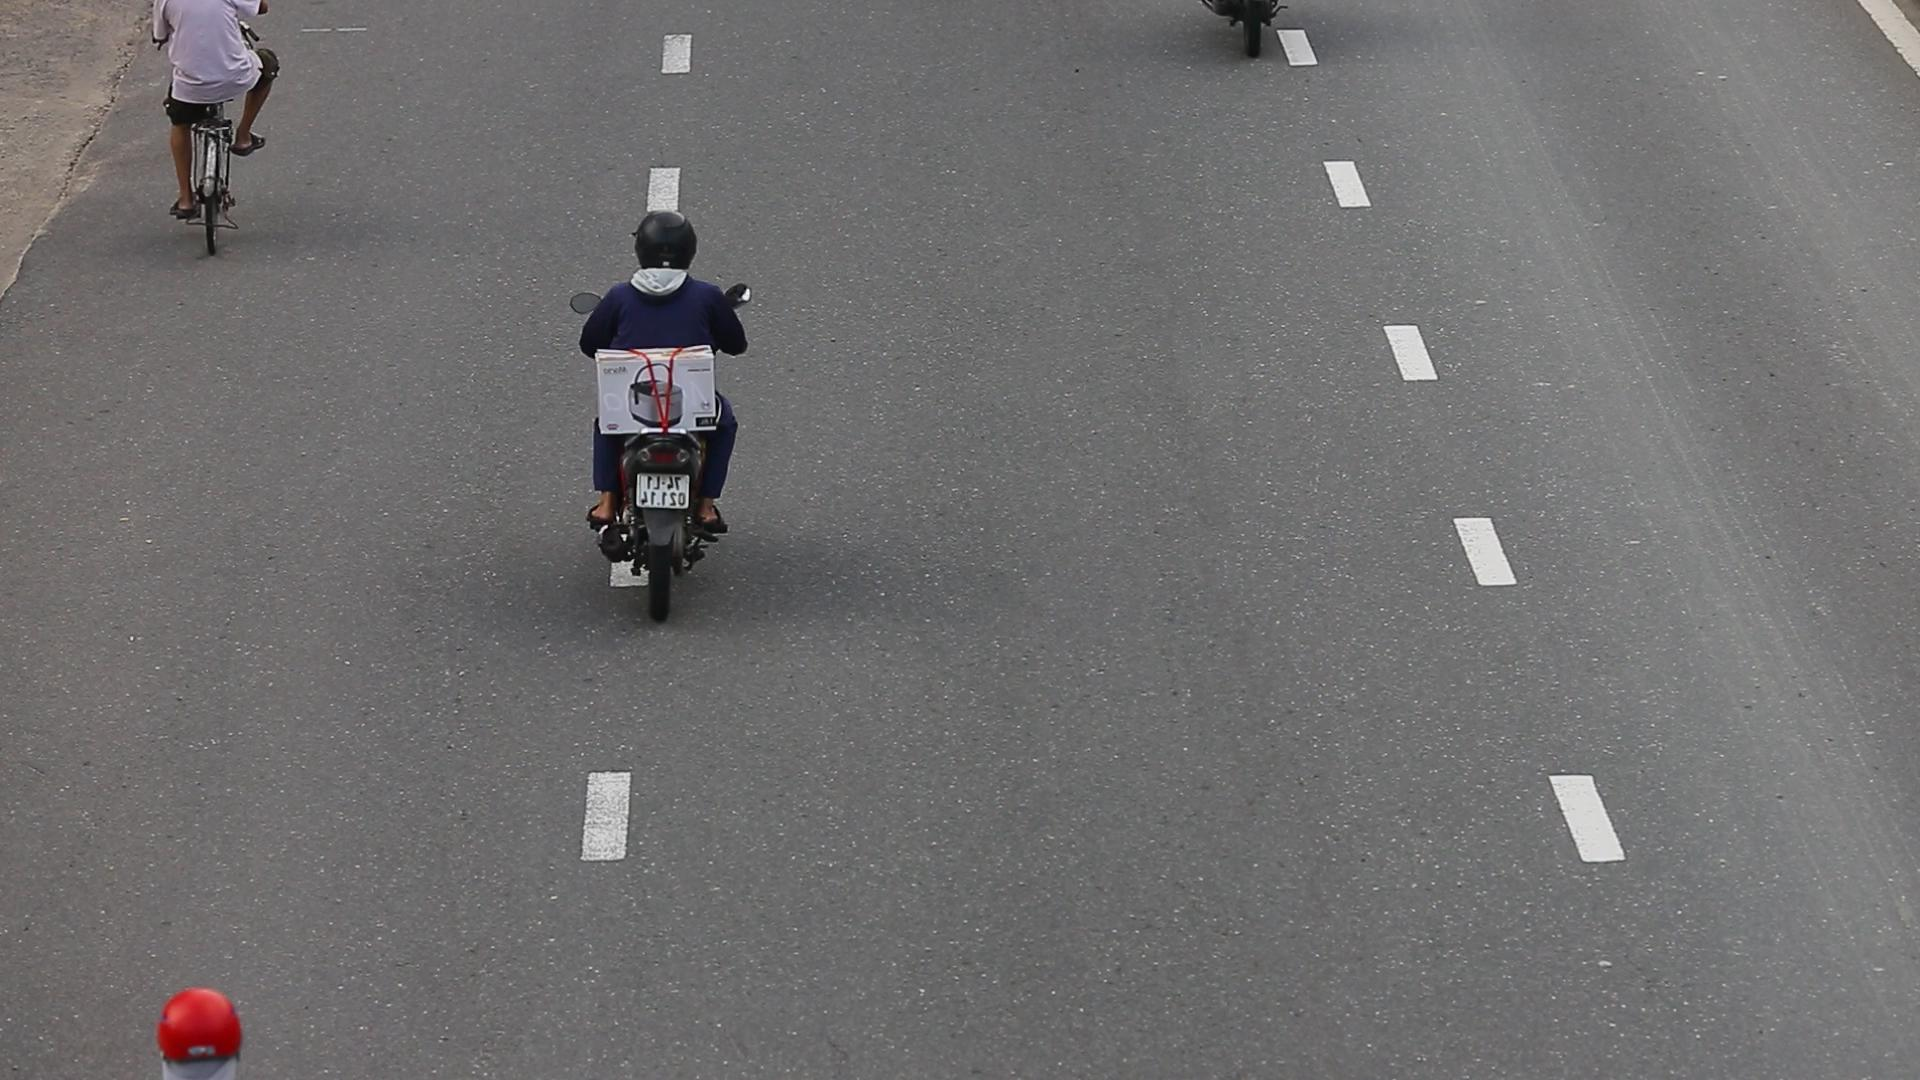motobike: (570, 212, 753, 625)
